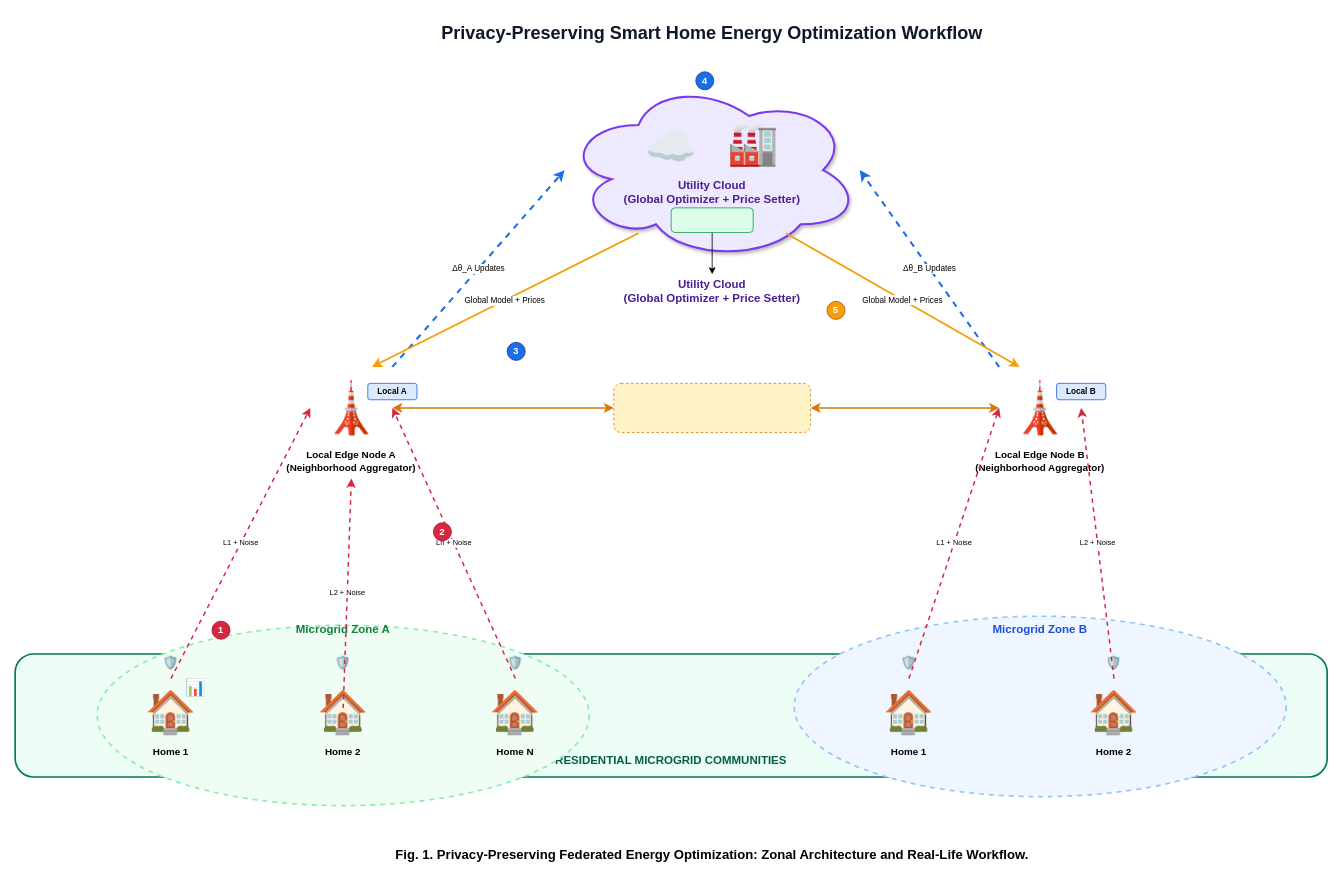
Some shapes in this 1342 by 881 pixel diagram are drawn without their labels. The shapes that lost their labels are listed below. From the top down, each one's centre as x and y in pixels, then its label:
At pixel 711 219: "Global".
At pixel 712 408: "Coordination Protocol: Stackelberg Negotiation (Price Signaling ⚡)".
